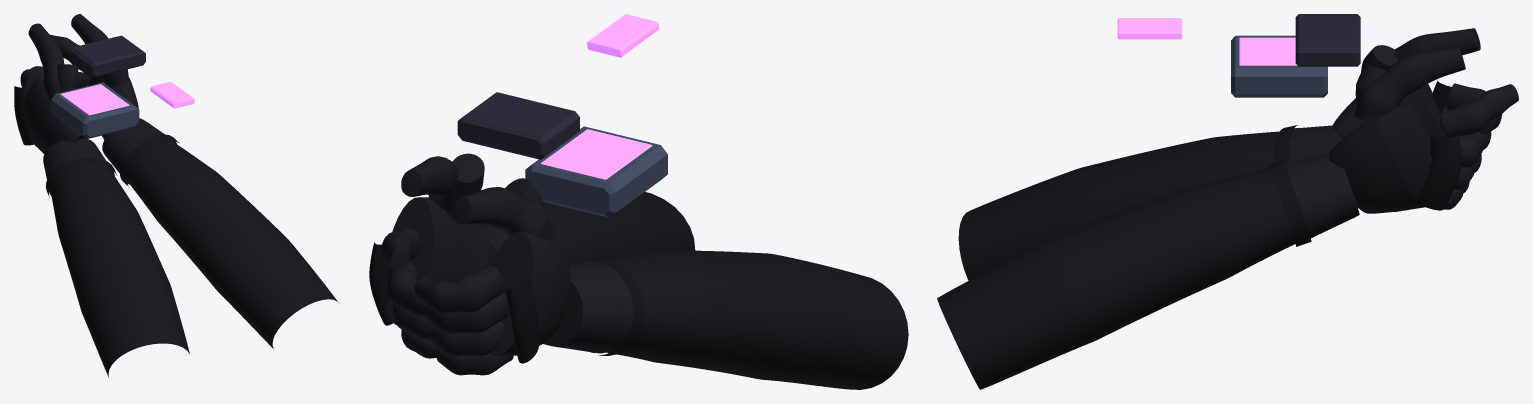
Rendered from hands_specter_pistol.glb.
The picture shows the model from 3 angles, left to right: view 1: azimuth 30°, elevation 25°; view 2: azimuth 150°, elevation 25°; view 3: azimuth 270°, elevation 25°; orthographic projection. The views are drawn at different scales.
Visible parts, largest first — view 1: hand_r_forearm, hand_l_forearm, hand_l_scanner, hand_r_cuff_plate, hand_l_palm, hand_r_cuff, hand_l_thumb, hand_l_cuff, hand_l_screen, hand_r_thumb, hand_r_lamp, hand_r_cuff_strap (+6 smaller); view 2: hand_l_forearm, hand_r_forearm, hand_l_cuff, hand_l_scanner, hand_r_cuff_plate, hand_l_palm, hand_r_palm, hand_l_thumb, hand_l_screen, hand_l_index, hand_r_thumb, hand_l_knuckle_panel (+13 smaller); view 3: hand_r_forearm, hand_l_forearm, hand_r_palm, hand_r_cuff, hand_r_thumb, hand_l_scanner, hand_r_cuff_plate, hand_r_knuckle_panel, hand_r_index, hand_l_palm, hand_l_screen, hand_l_thumb (+8 smaller).
Part boxes in pixels (bbox=[...]): hand_r_forearm: bbox=[127, 141, 339, 348]; hand_l_forearm: bbox=[50, 165, 189, 377]; hand_l_scanner: bbox=[51, 82, 139, 138]; hand_r_cuff_plate: bbox=[70, 35, 145, 77]; hand_l_palm: bbox=[24, 75, 85, 153]; hand_r_cuff: bbox=[102, 118, 176, 184]; hand_l_thumb: bbox=[28, 23, 64, 101]; hand_l_cuff: bbox=[43, 138, 114, 195]; hand_l_screen: bbox=[60, 84, 129, 115]; hand_r_thumb: bbox=[71, 14, 129, 86]; hand_r_lamp: bbox=[150, 81, 194, 108]; hand_r_cuff_strap: bbox=[120, 134, 179, 187]; hand_l_forearm: bbox=[597, 250, 908, 389]; hand_r_forearm: bbox=[543, 192, 695, 263]; hand_l_cuff: bbox=[543, 260, 633, 353]; hand_l_scanner: bbox=[525, 126, 667, 217]; hand_r_cuff_plate: bbox=[457, 92, 579, 159]; hand_l_palm: bbox=[491, 232, 570, 355]; hand_r_palm: bbox=[386, 197, 489, 324]; hand_l_thumb: bbox=[452, 187, 555, 242]; hand_l_screen: bbox=[541, 129, 652, 179]; hand_l_index: bbox=[414, 264, 503, 313]; hand_r_thumb: bbox=[401, 156, 459, 220]; hand_l_knuckle_panel: bbox=[505, 273, 538, 363]; hand_r_forearm: bbox=[937, 168, 1295, 389]; hand_l_forearm: bbox=[958, 131, 1278, 280]; hand_r_palm: bbox=[1329, 102, 1453, 213]; hand_r_cuff: bbox=[1284, 153, 1359, 238]; hand_r_thumb: bbox=[1354, 47, 1465, 124]; hand_l_scanner: bbox=[1231, 35, 1327, 97]; hand_r_cuff_plate: bbox=[1295, 14, 1360, 66]; hand_r_knuckle_panel: bbox=[1417, 135, 1461, 210]; hand_r_index: bbox=[1439, 84, 1518, 137]; hand_l_palm: bbox=[1332, 84, 1445, 138]; hand_l_screen: bbox=[1239, 37, 1297, 65]; hand_l_thumb: bbox=[1394, 28, 1480, 60].
Size of the model in its own units: 0.2176 by 0.2248 by 0.3592.
